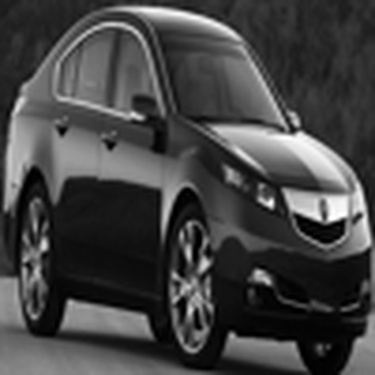car: (8, 1, 368, 365)
